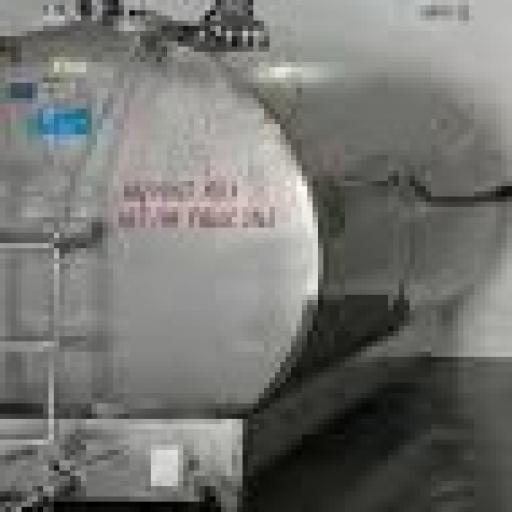silo: (0, 0, 507, 507)
